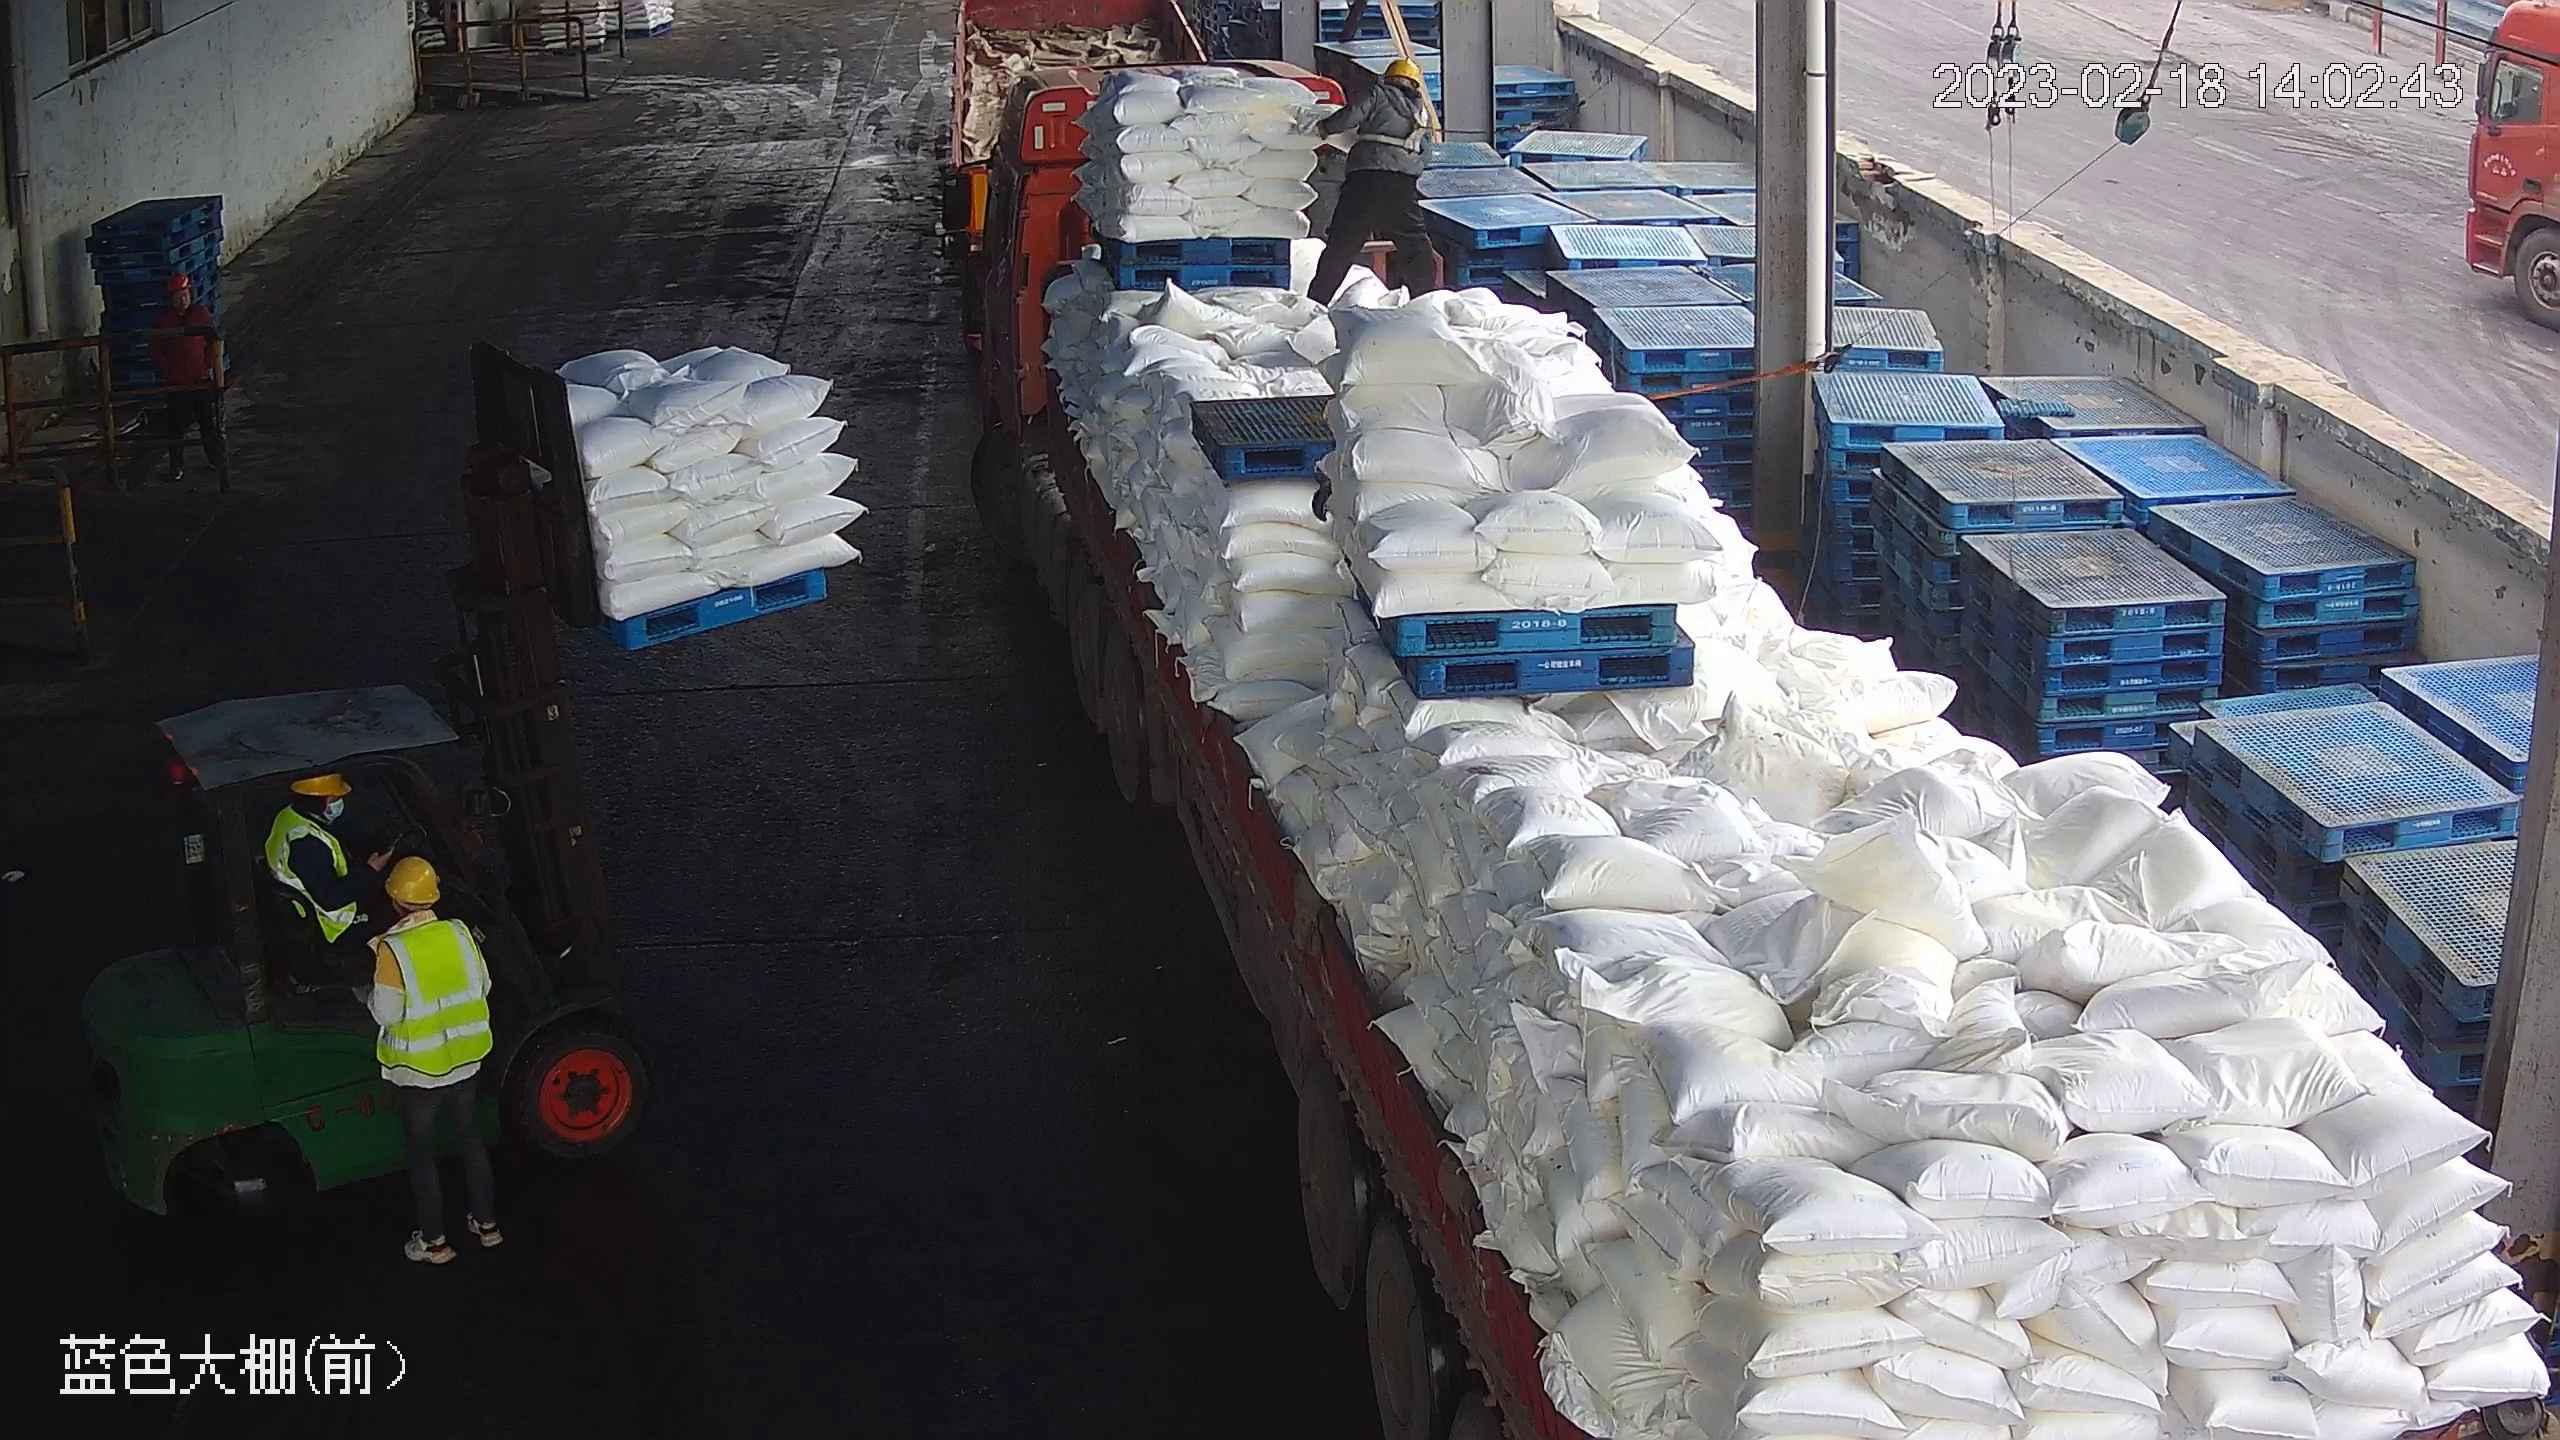belt: (1359, 86, 1438, 154)
head: (367, 854, 490, 987), (269, 769, 362, 865), (1351, 55, 1436, 124), (155, 270, 218, 334)
helmet: (376, 855, 440, 910), (1384, 54, 1429, 91), (167, 270, 197, 295)
people: (368, 851, 508, 1268), (1304, 52, 1443, 308), (264, 765, 380, 956), (146, 267, 242, 492)
truck: (953, 45, 2558, 1438)
